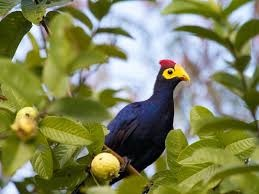bird: (63, 58, 191, 194)
